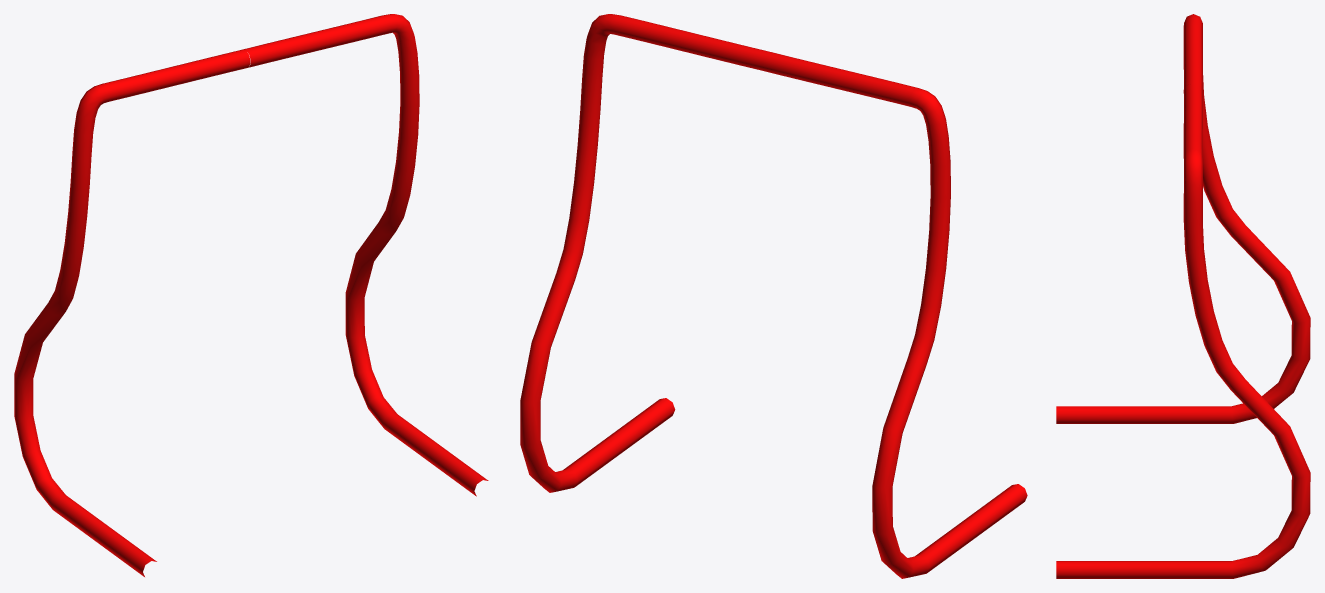
Rendered from equipment_0013_largehurdle.glb.
3 views of the same model, side by side, from view 1: azimuth 30°, elevation 25°; view 2: azimuth 150°, elevation 25°; view 3: azimuth 270°, elevation 25° (orthographic). The views are drawn at different scales.
Parts seen in each view (by area): view 1: large_hurdle; view 2: large_hurdle; view 3: large_hurdle.
Boxes of the visible parts, x1,y1,x2,y2 form: large_hurdle: [14, 14, 488, 576]; large_hurdle: [520, 14, 1027, 578]; large_hurdle: [1056, 14, 1310, 578].
Bounding box in the file's own units: 68.8 × 82.3 × 45.35.
